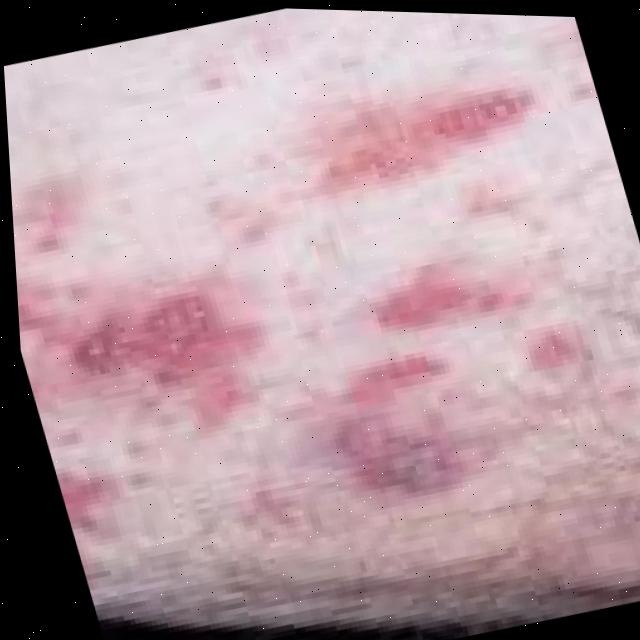Shingles: (3, 50, 640, 592)
